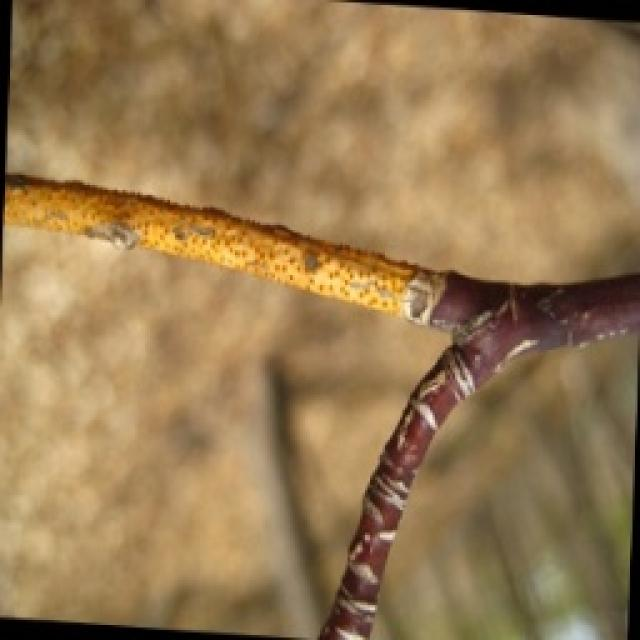Golden_canker: (2, 168, 450, 330)
